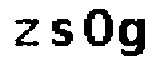0: (82, 5, 116, 50)
g: (117, 14, 150, 60)
s: (46, 15, 77, 50)
z: (11, 15, 44, 51)
